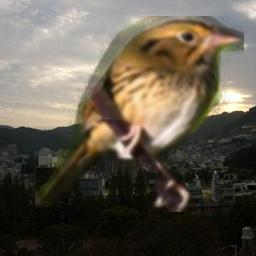Sparrow: (35, 16, 244, 212)
